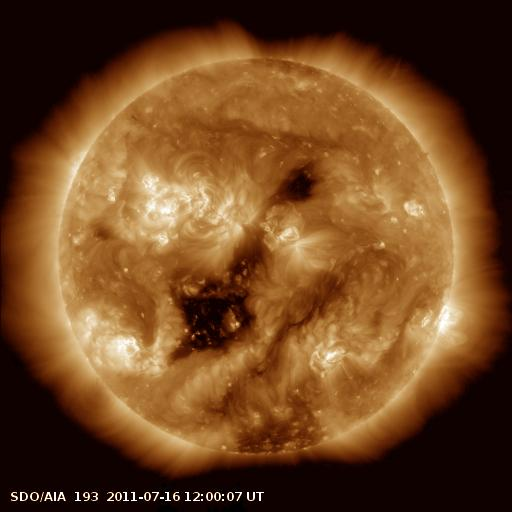coronal_hole: (165, 221, 274, 365), (231, 386, 325, 464), (264, 158, 325, 216)
